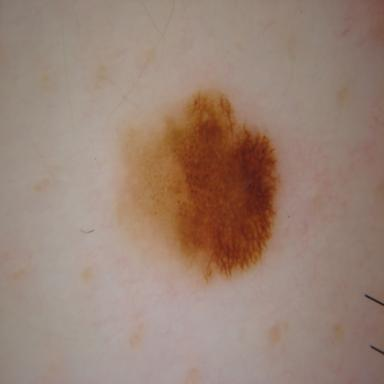nevus: (120, 91, 279, 280)
